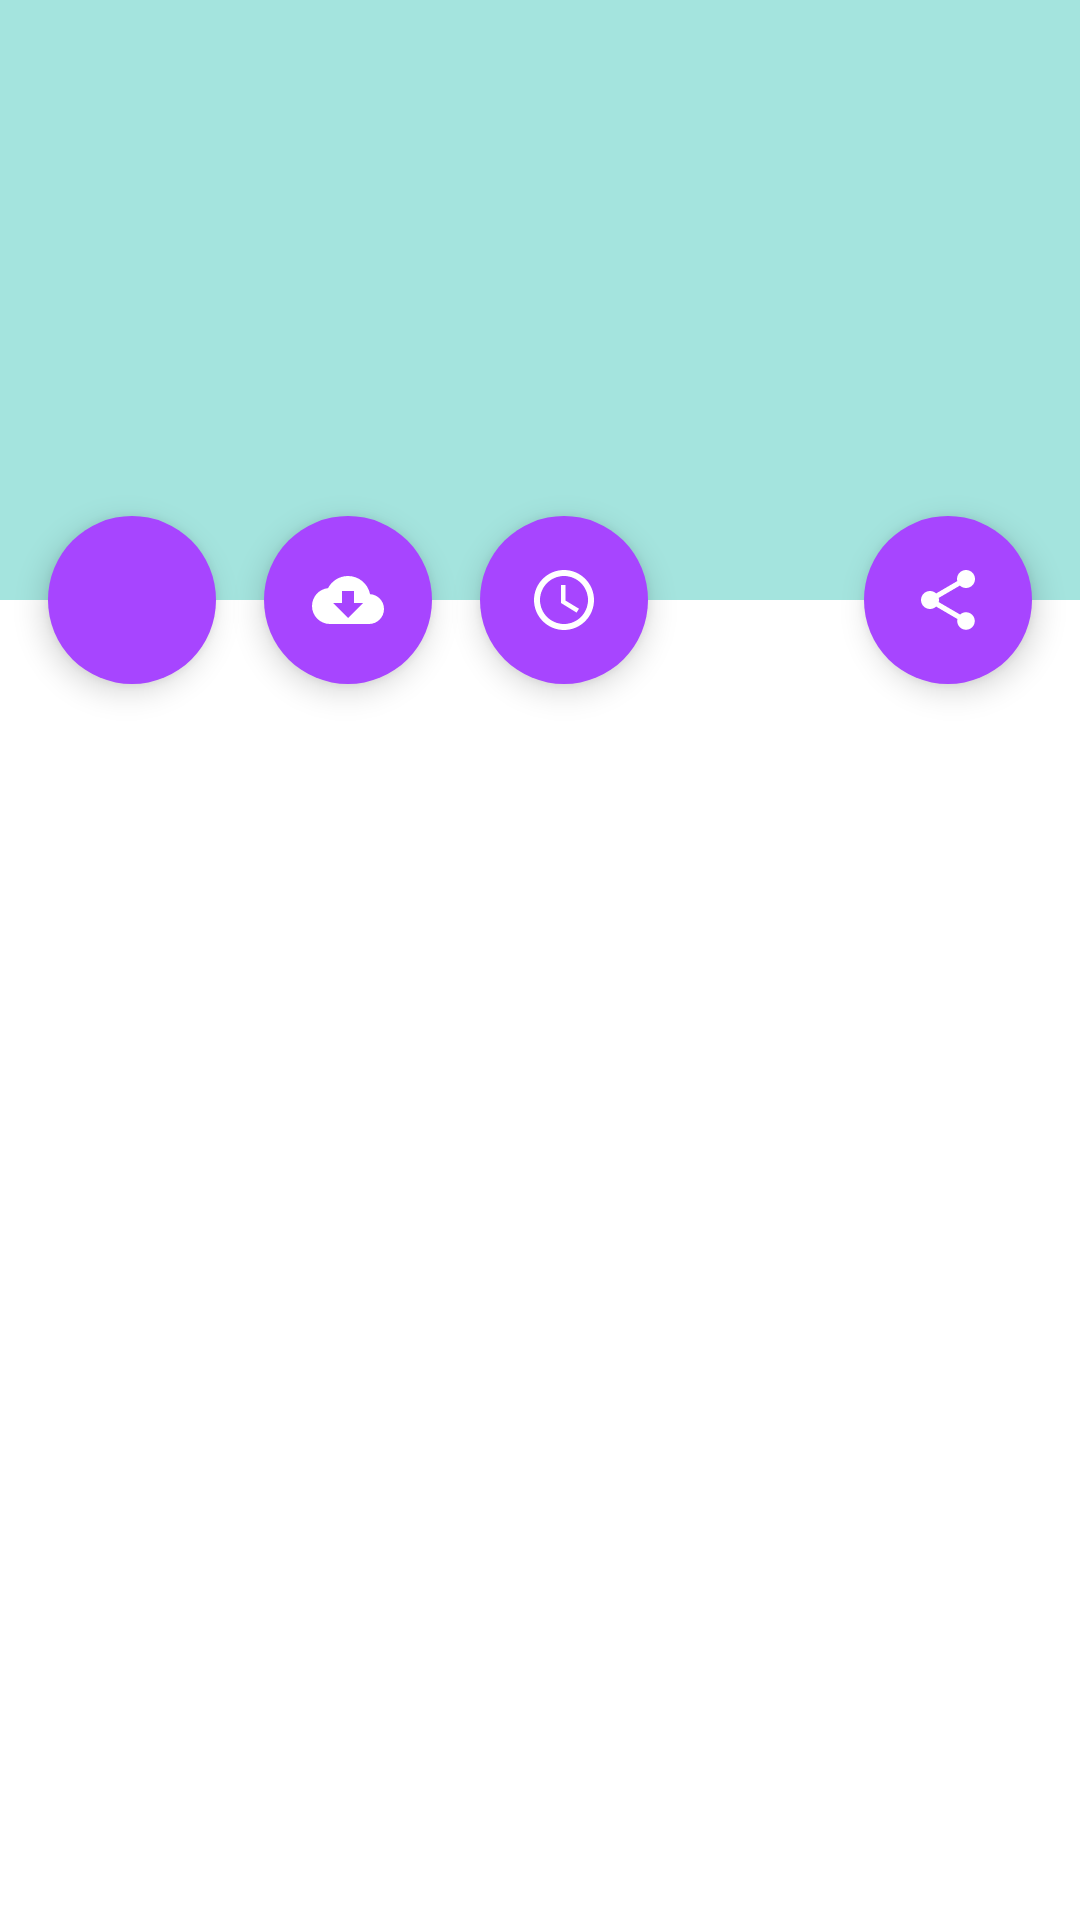

Point at icon controls on the screen. Image size 1080 × 1920, points as (x,y).
share: (948,600)
